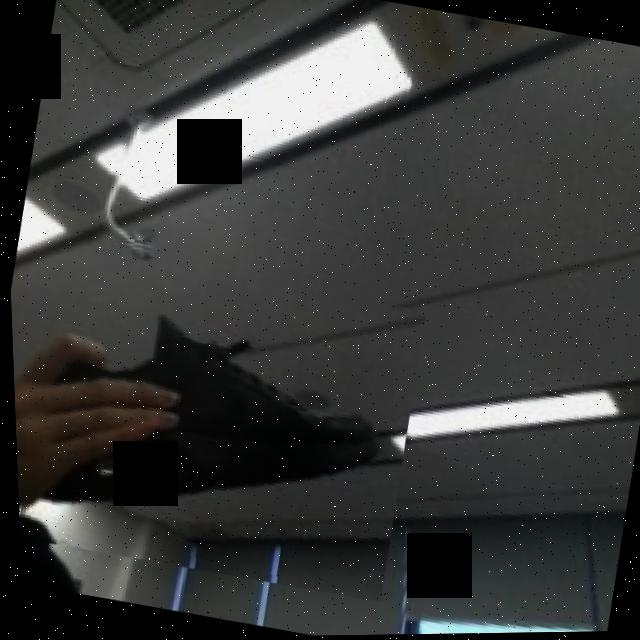shoe: (7, 223, 435, 607)
